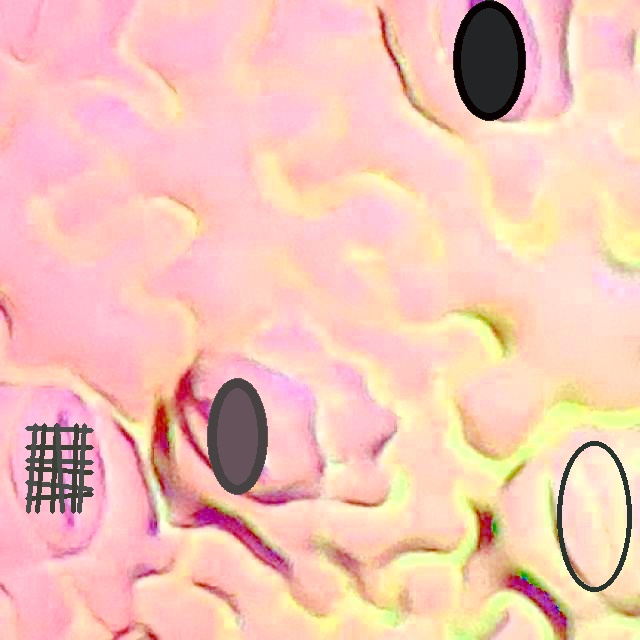close: (557, 440, 632, 591)
open: (453, 1, 525, 120), (207, 379, 267, 494), (25, 423, 93, 513)
